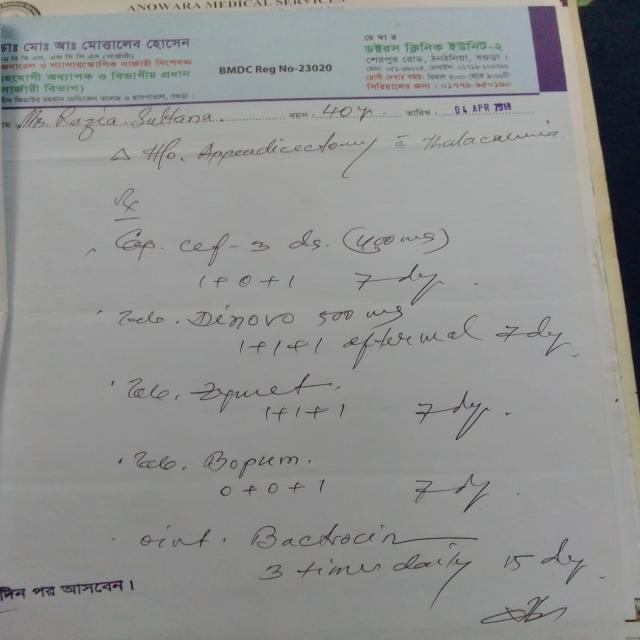Bactrocin: (244, 517, 416, 559)
Bopam: (192, 446, 314, 482)
Cef-3 DS: (172, 229, 327, 256)
Dinovo: (181, 306, 305, 331)
Zymet: (189, 376, 321, 405)
